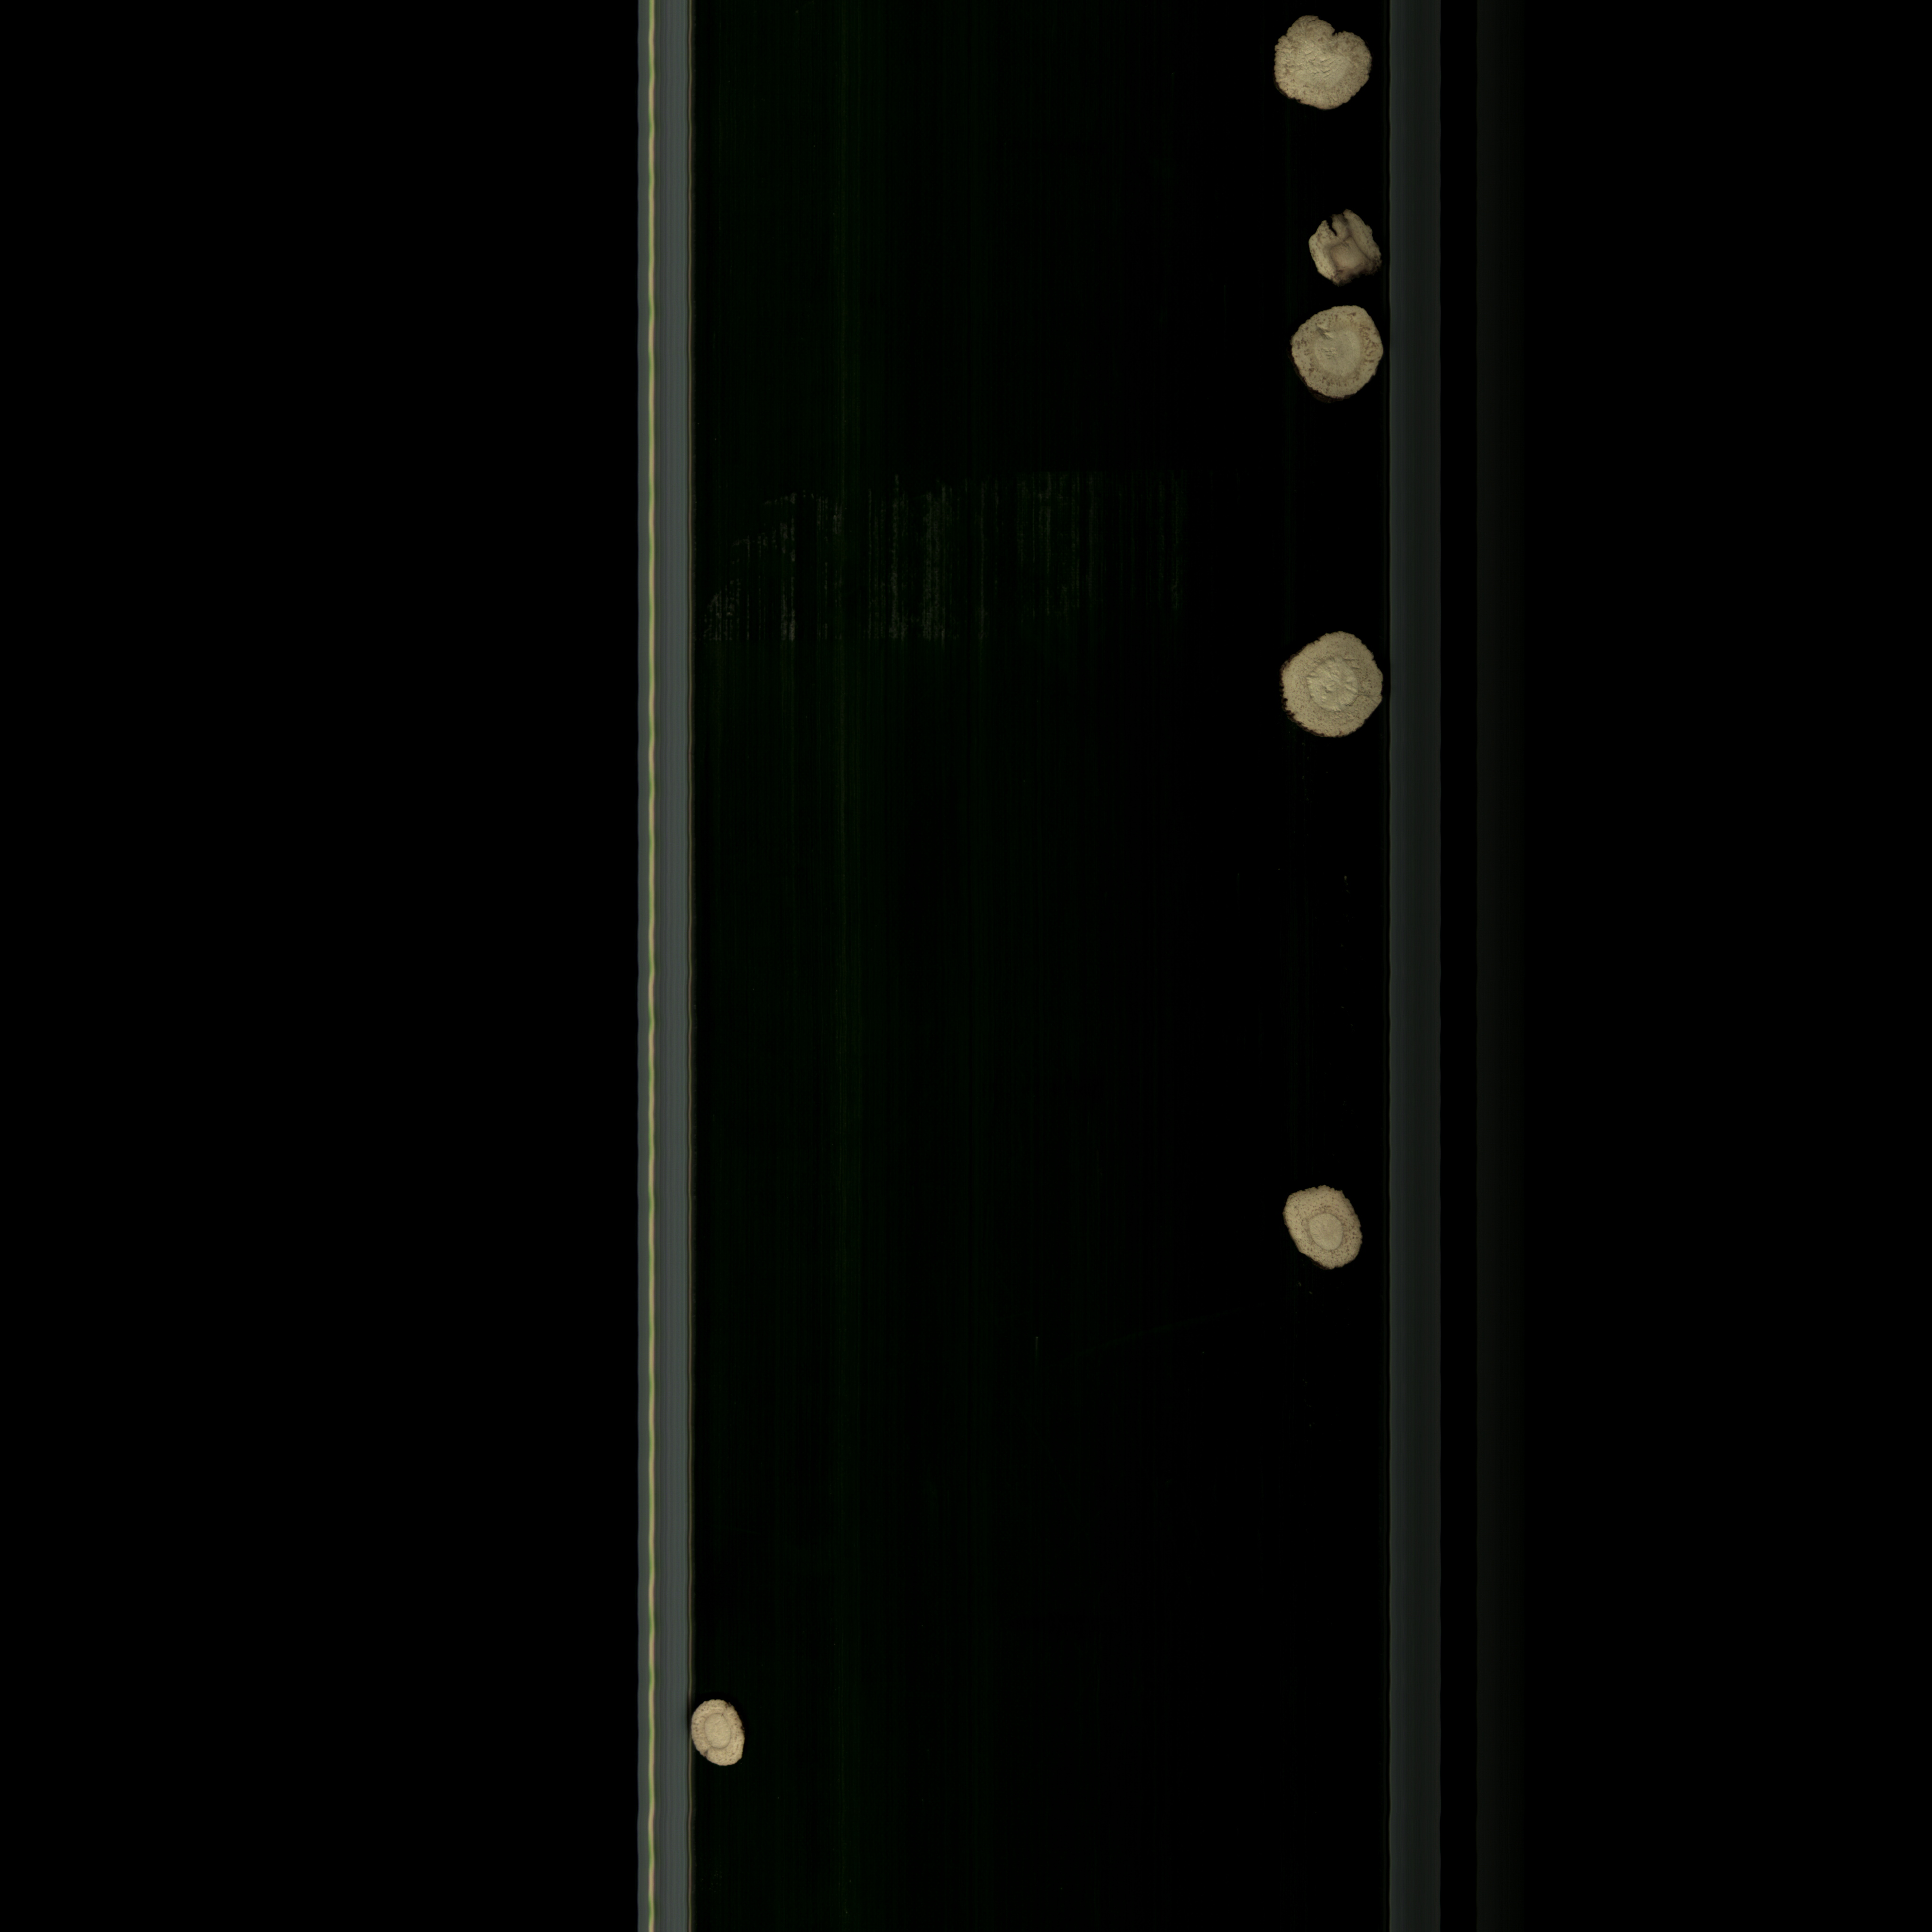moldy: (1263, 625, 1387, 741), (1288, 301, 1384, 418), (1272, 19, 1371, 113), (1277, 1182, 1371, 1276), (1302, 203, 1378, 287)
